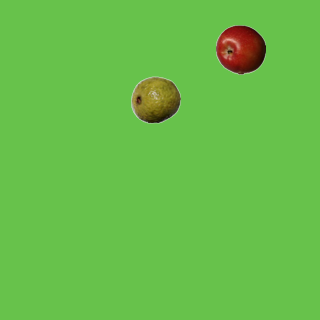Apple Braeburn: (215, 24, 265, 74)
Guava: (130, 74, 180, 124)
